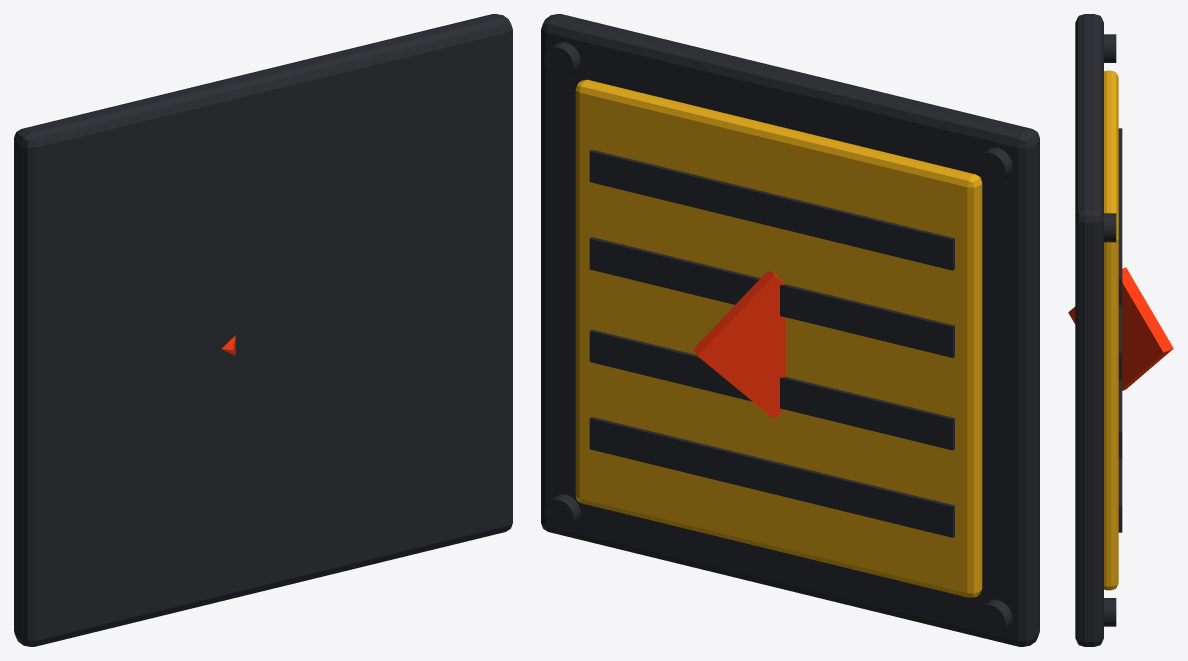
File: hazard_pad.obj
The picture shows the model from 3 angles, left to right: view 1: azimuth 30°, elevation 25°; view 2: azimuth 150°, elevation 25°; view 3: azimuth 270°, elevation 25°; orthographic projection. The views are drawn at different scales.
Visible parts, largest first — view 1: hazard_pad; view 2: hazard_pad; view 3: hazard_pad.
Boxes of the visible parts, x1,y1,x2,y2 form: hazard_pad: [14, 14, 512, 646]; hazard_pad: [541, 14, 1039, 646]; hazard_pad: [1068, 14, 1173, 646].
Bounding box in the file's own units: 1 × 1 × 0.2192.
